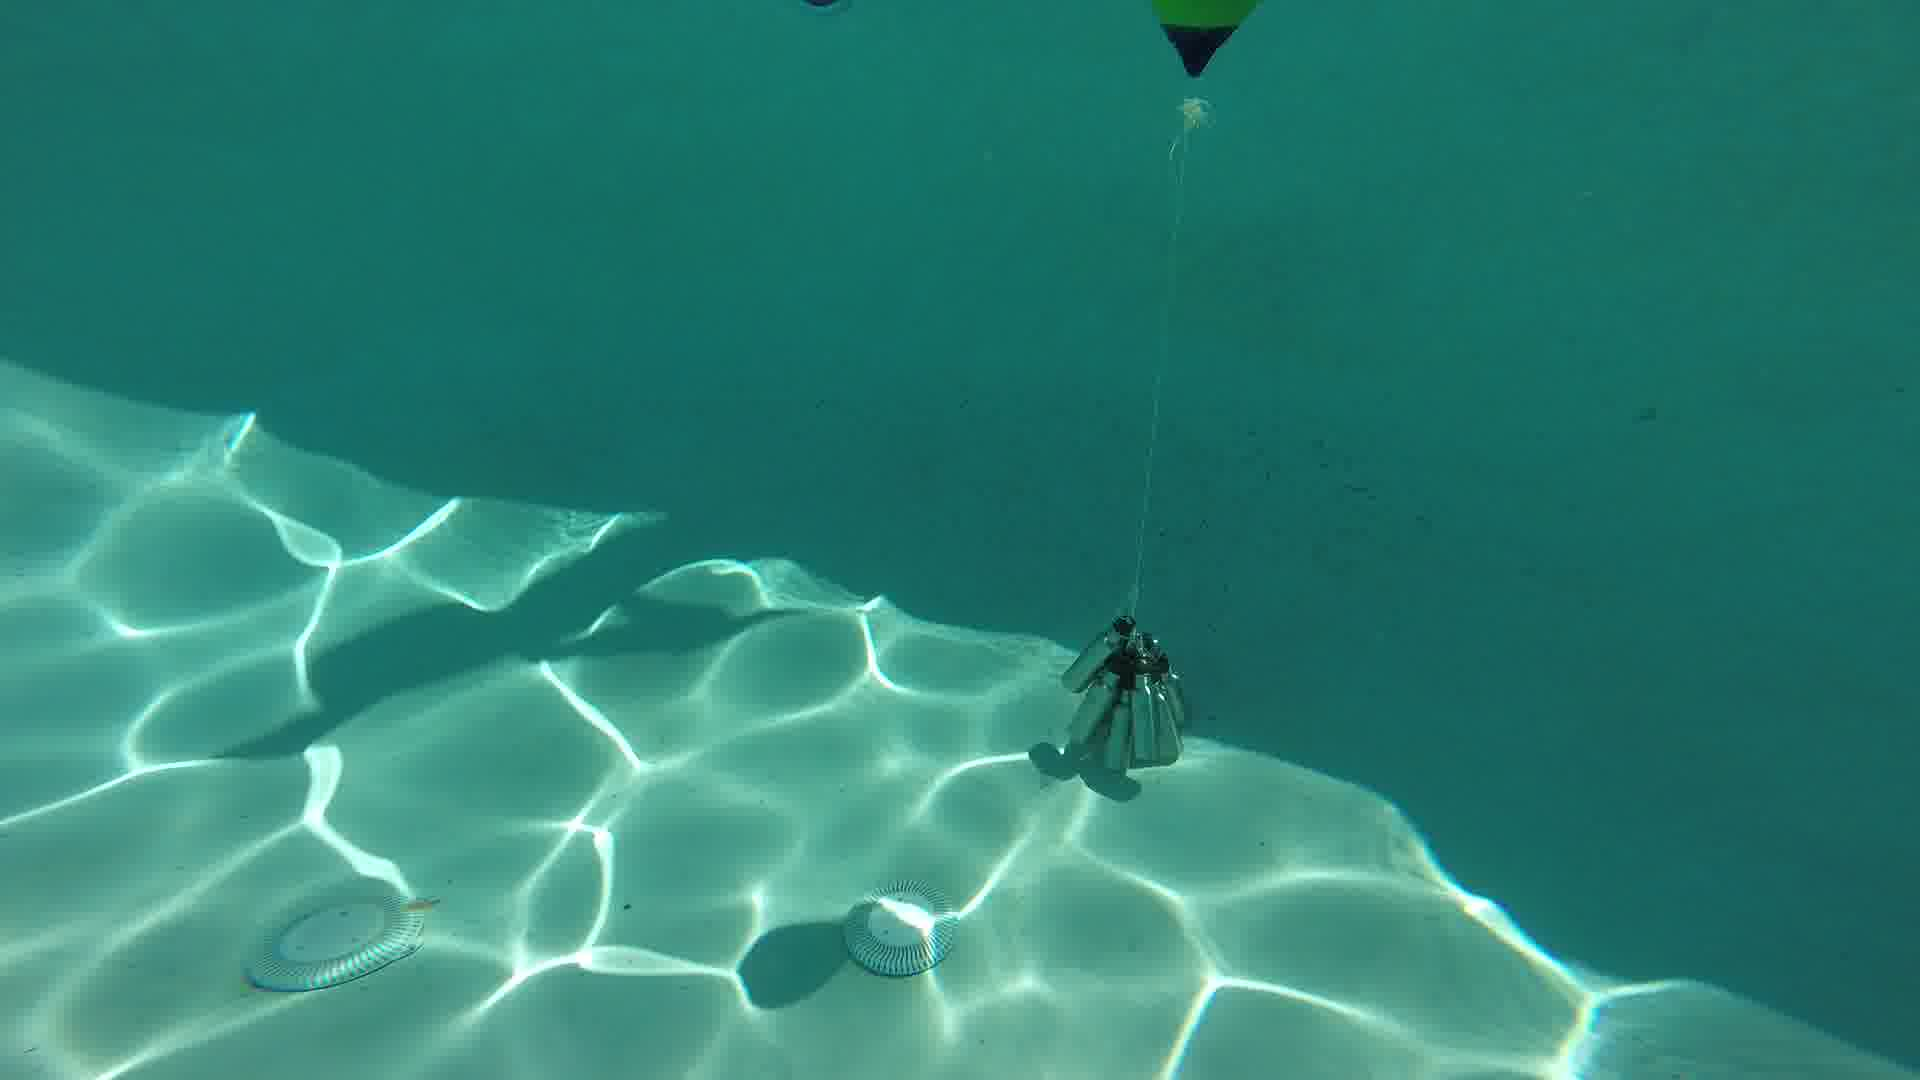yellow_buoy: (1149, 1, 1261, 135)
